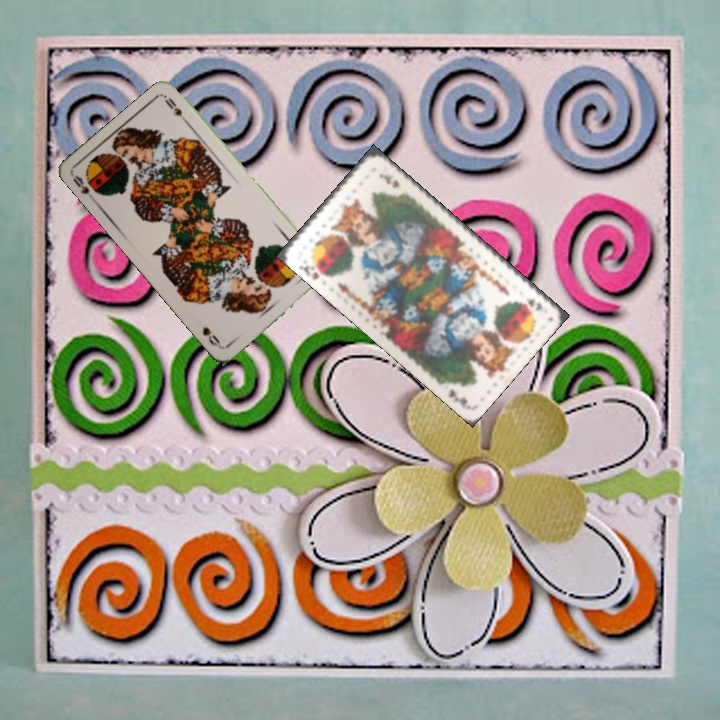SK: (295, 260, 332, 283), (522, 294, 545, 314)
SO: (69, 171, 105, 206)
